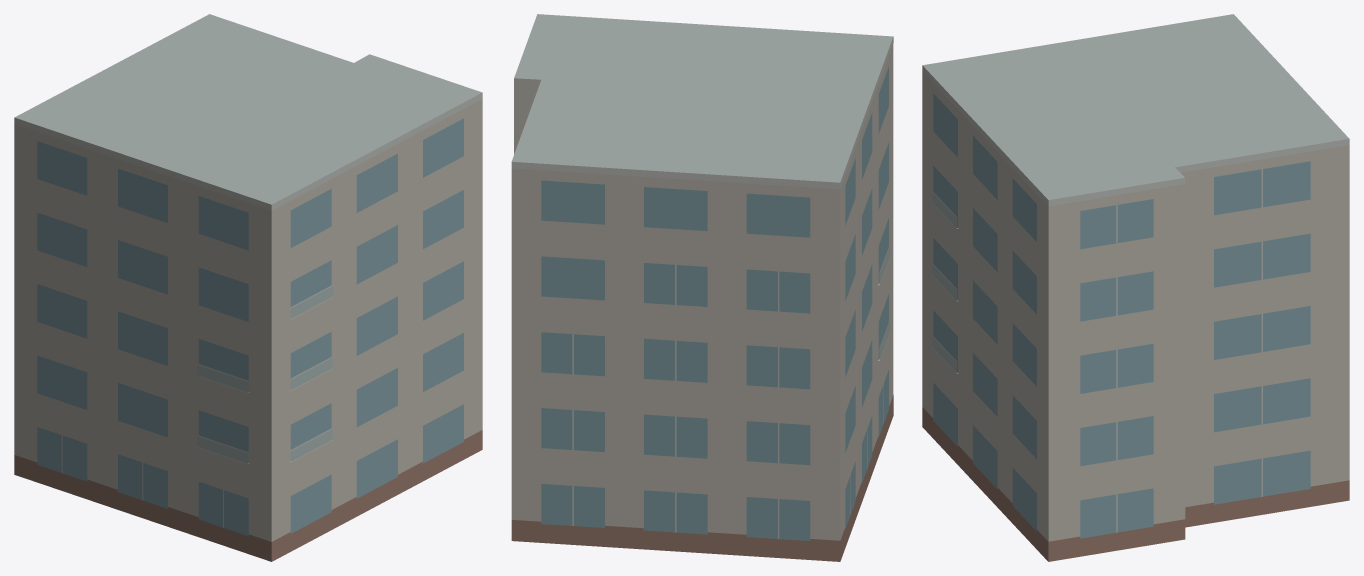
File: survey-upis-32977031.glb
3 renders of one model, left to right at view 1: azimuth 30°, elevation 25°; view 2: azimuth 150°, elevation 25°; view 3: azimuth 270°, elevation 25°, orthographic. The views are drawn at different scales.
Visible parts, largest first — view 1: survey-upis-32977031.tmp; view 2: survey-upis-32977031.tmp; view 3: survey-upis-32977031.tmp.
Part boxes in pixels (x1,y1,x2,y2): survey-upis-32977031.tmp: [14, 14, 482, 561]; survey-upis-32977031.tmp: [511, 14, 893, 561]; survey-upis-32977031.tmp: [922, 14, 1349, 561].
Bounding box in the file's own units: 15.57 × 14.1 × 15.1.
